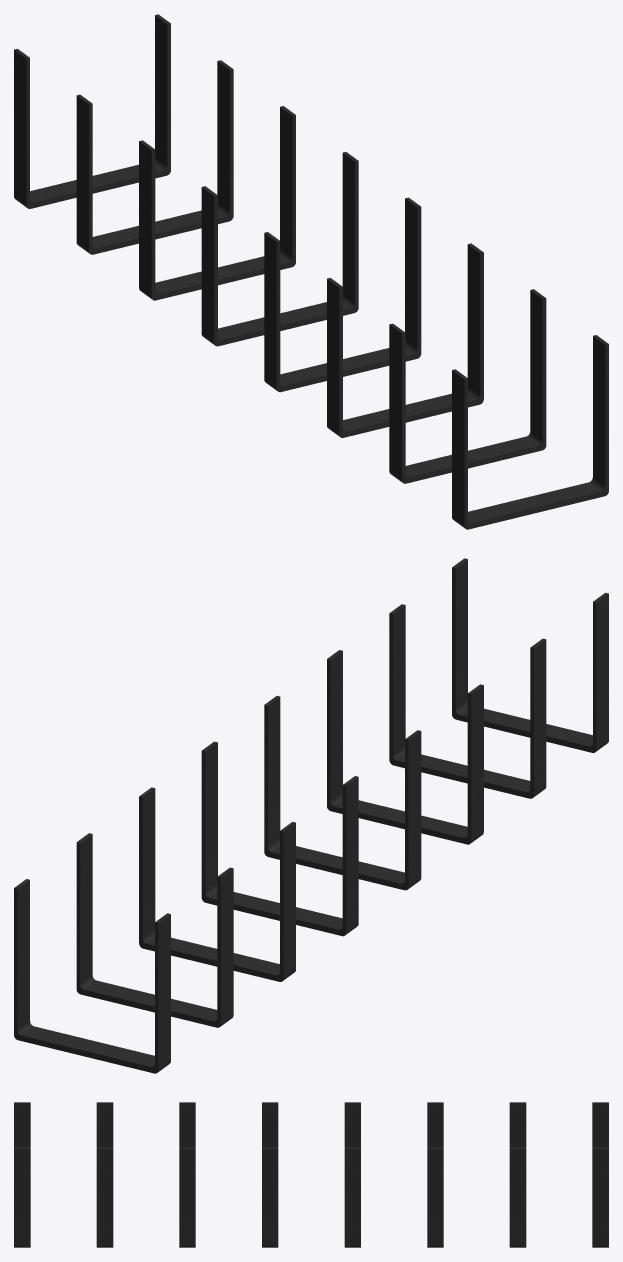
Rendered from house_bike_stand.glb.
3 views of the same model, one above another, from view 1: azimuth 30°, elevation 25°; view 2: azimuth 150°, elevation 25°; view 3: azimuth 270°, elevation 25° (orthographic). The views are drawn at different scales.
Visible parts, largest first — view 1: Bike Stand; view 2: Bike Stand; view 3: Bike Stand.
Boxes of the visible parts, box(x1,y1,x2,y2) form: Bike Stand: box(14, 14, 608, 529); Bike Stand: box(14, 558, 608, 1073); Bike Stand: box(14, 1102, 608, 1247).
Size of the model in its own units: 80 by 80 by 432.
1 material, 1 textured.
